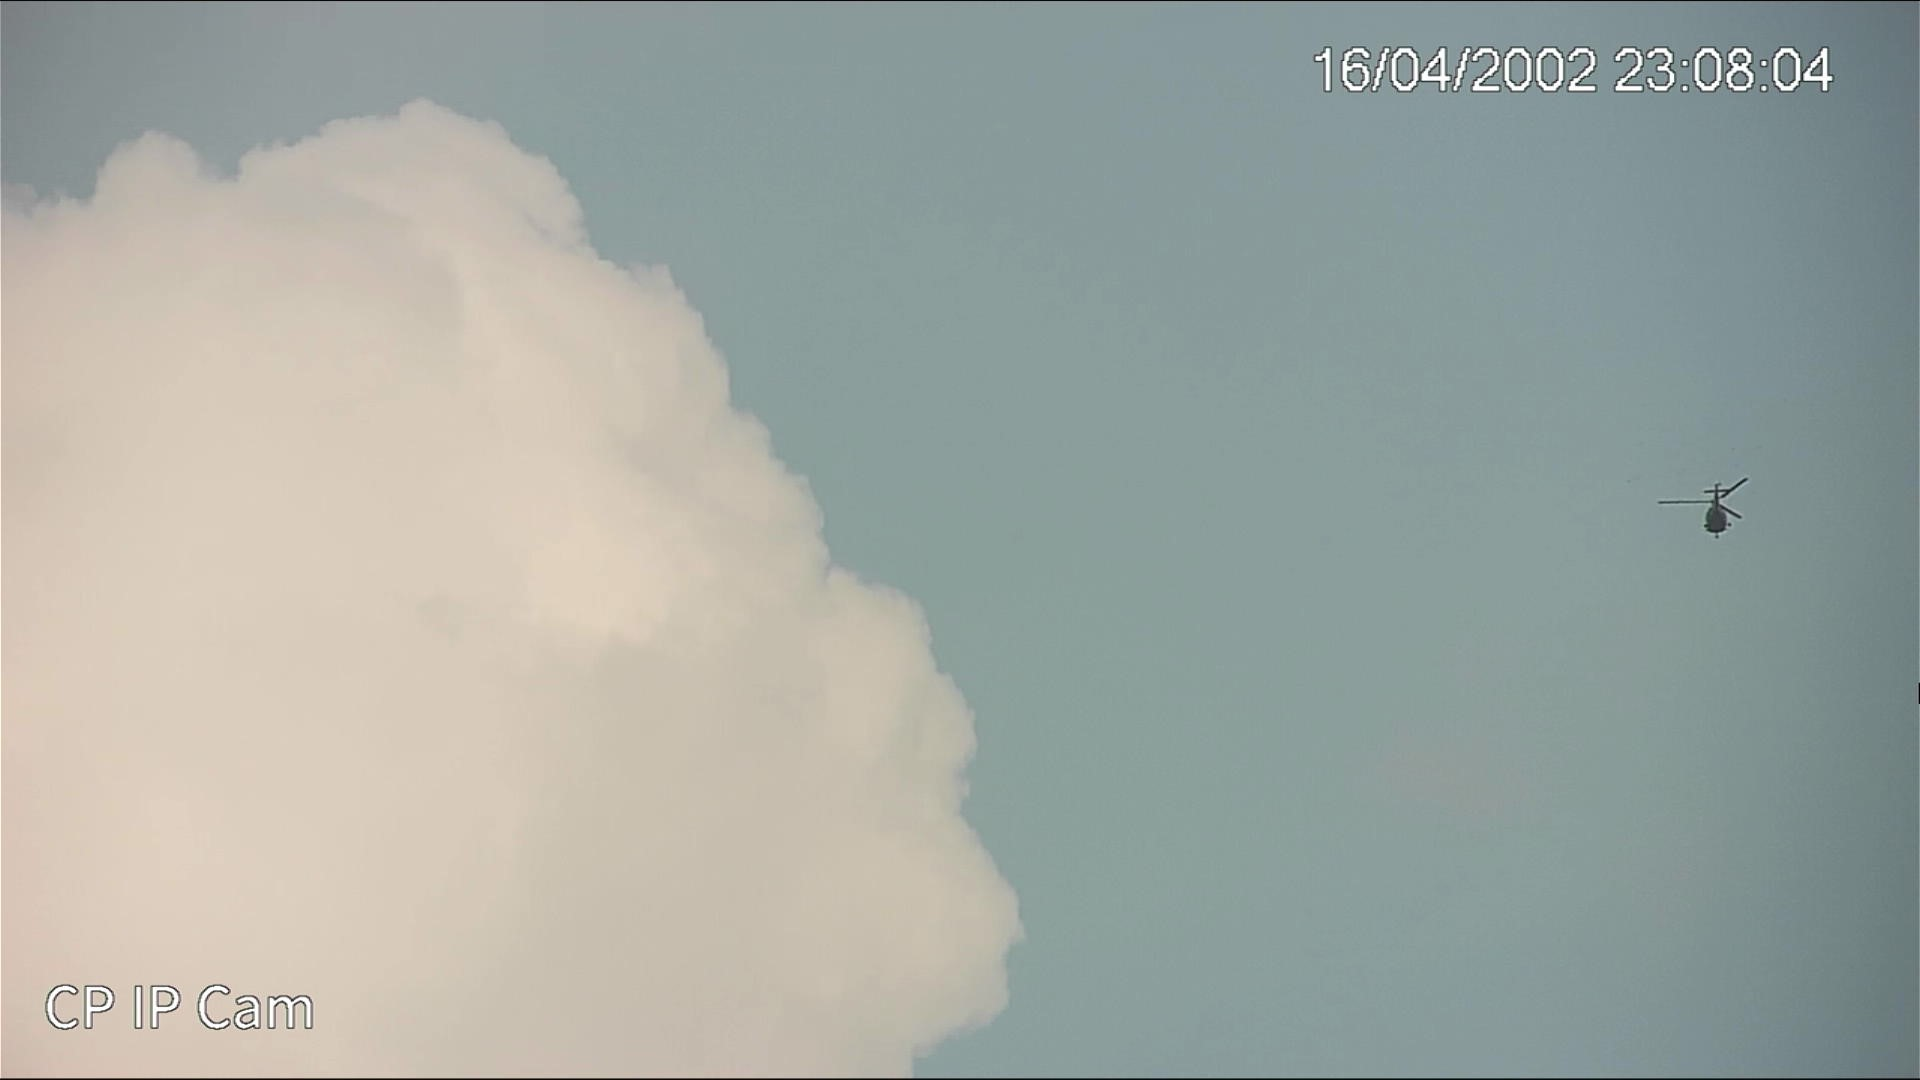SU_30: (1652, 477, 1755, 537)
